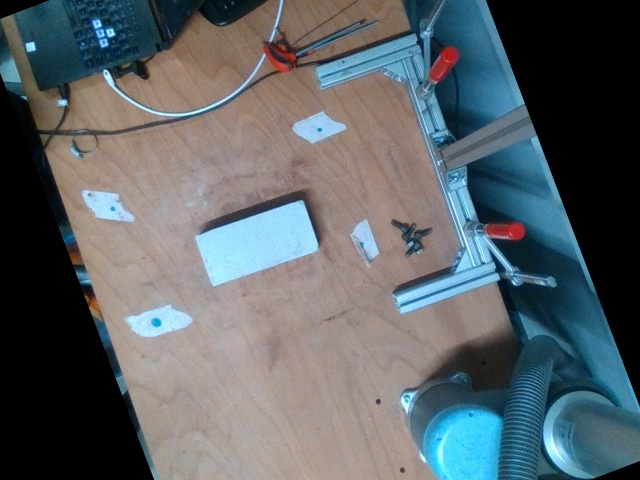brick: (195, 197, 318, 285)
